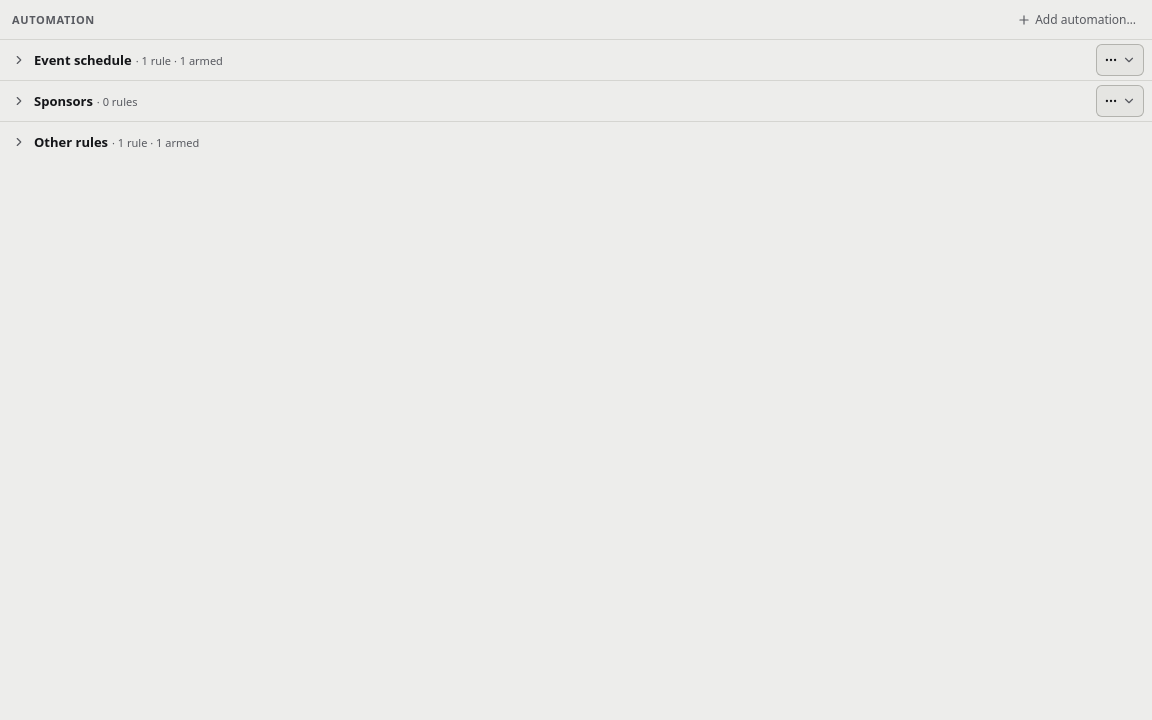
it: automation strip › one collapsed row per automation of the screen, with its summary; expanding shows its live panel and rules
expect the text "Strap on NOW" is not shown: met
Click the button with class "toggle" that starts with "Event schedule": (83, 60) [8,44,1092,76]
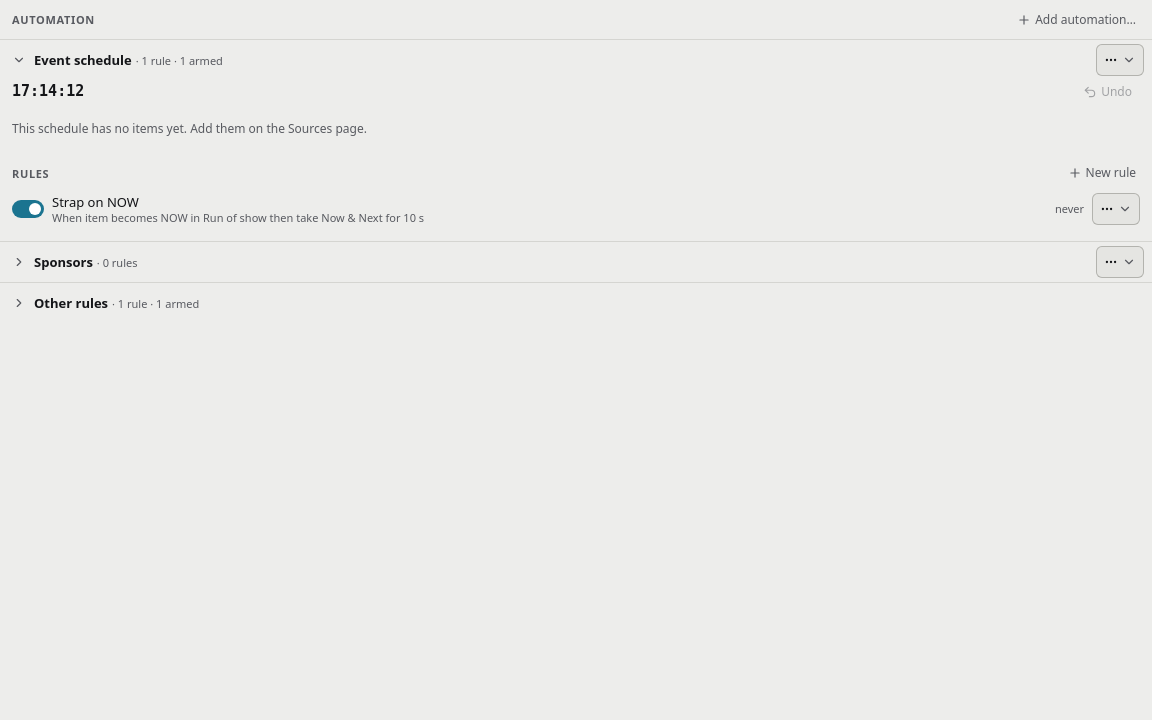
expect the text "Strap on NOW" is shown: met, box [52,193,139,211]
expect the text "When item becomes NOW in Run of show then take Now & Next for 10 s" is shown: met, box [52,210,424,225]
expect the text "never" is shown: met, box [1055,201,1084,217]
Click the button with class "toggle" showing "Sponsors · 0 rules": (63, 262) [8,246,1092,278]
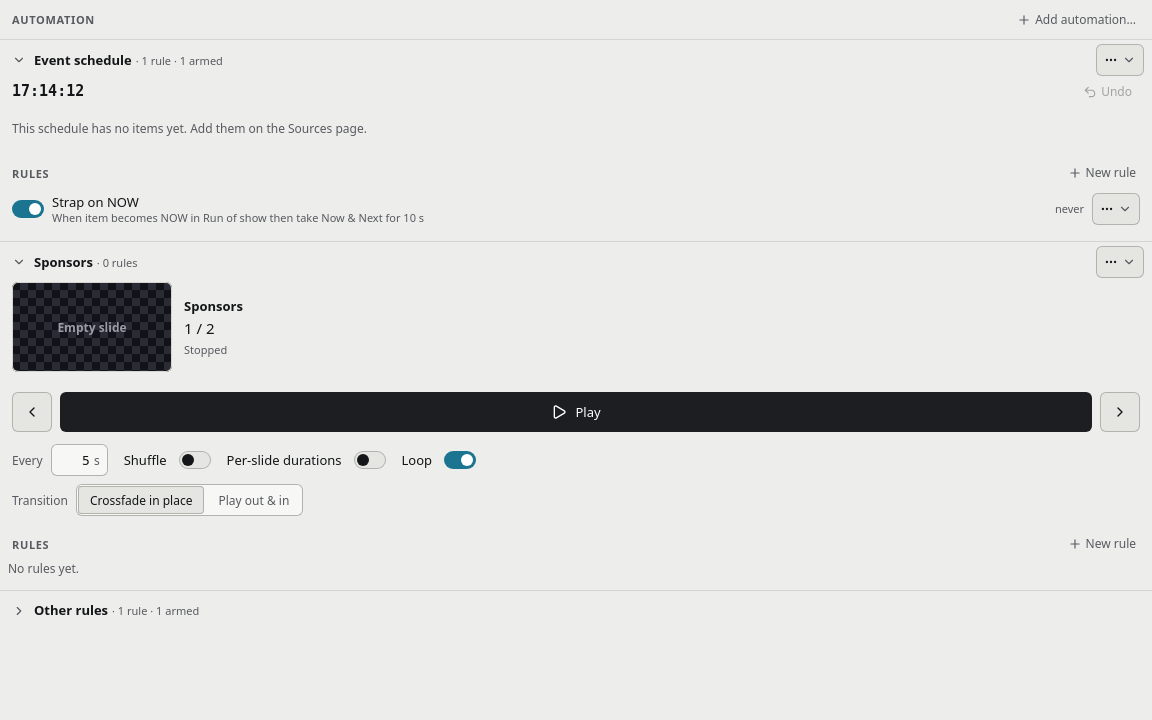
expect the button "Play" is shown: met, box [60,392,1092,432]
expect the text "No rules yet." is shown: met, box [8,560,79,577]
Click the button with class "toggle" showing "Sponsors · 0 rules": (63, 262) [8,246,1092,278]
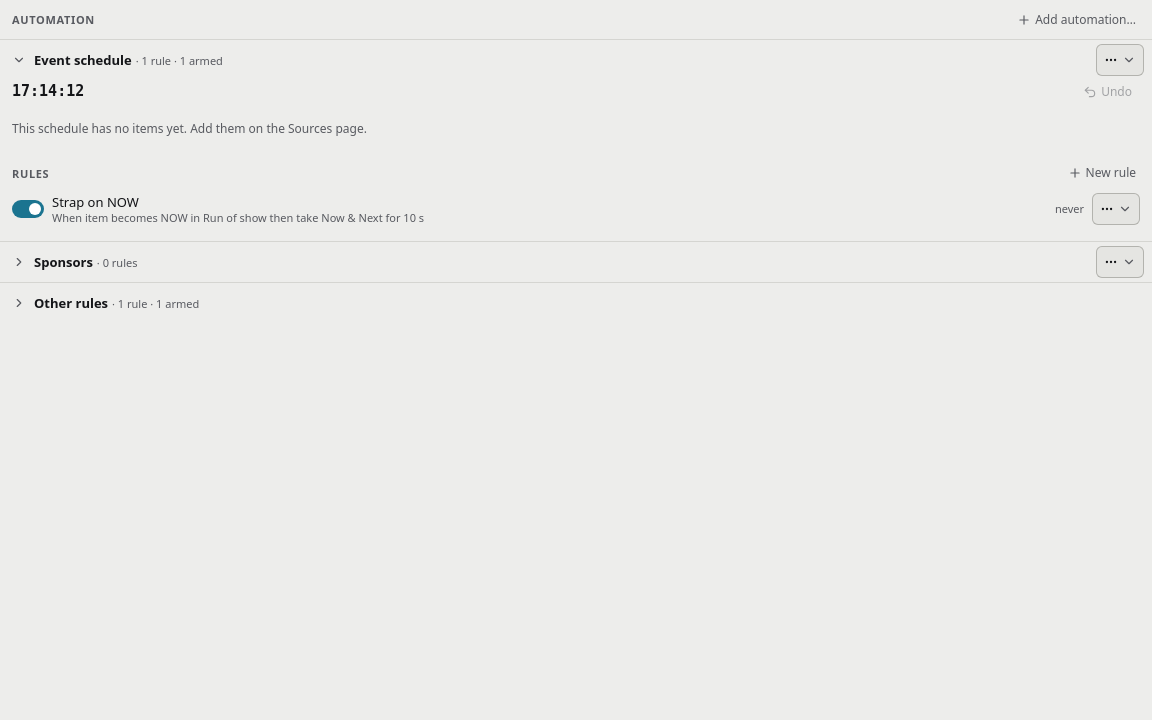
expect the button "Play" is gone: met
